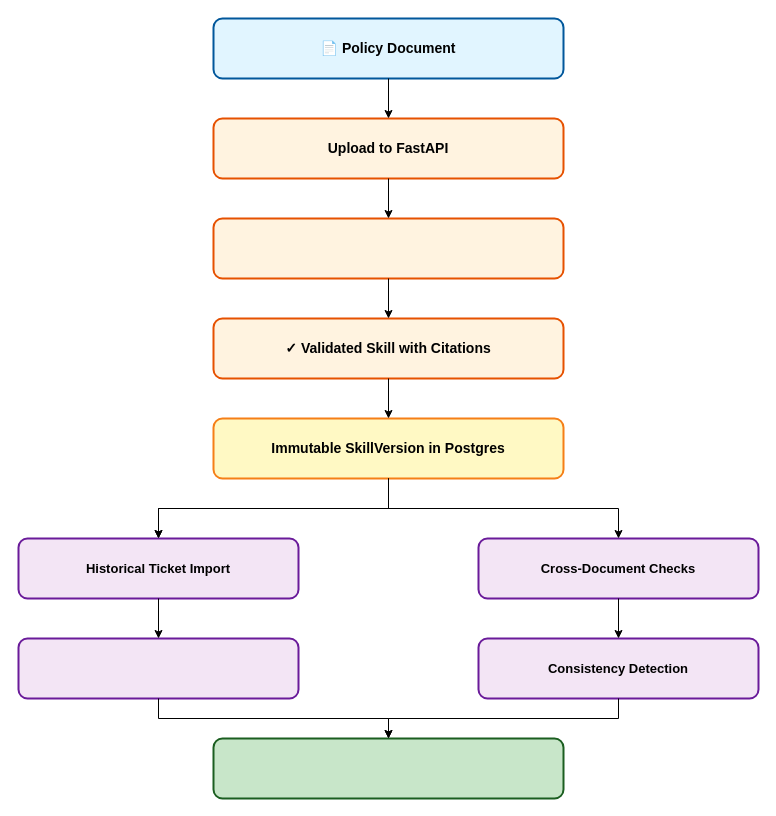
Image size: 776x816. Some labels were removed from this diagram. The shapes that lost their labels are listed below. From the top down, each one's centre as x and y in pixels, then its label:
At point (388, 248): "Four-Pass LLM Extraction".
At point (158, 668): "Simulation Engine".
At point (388, 768): "📊 Diagnostic Report".
